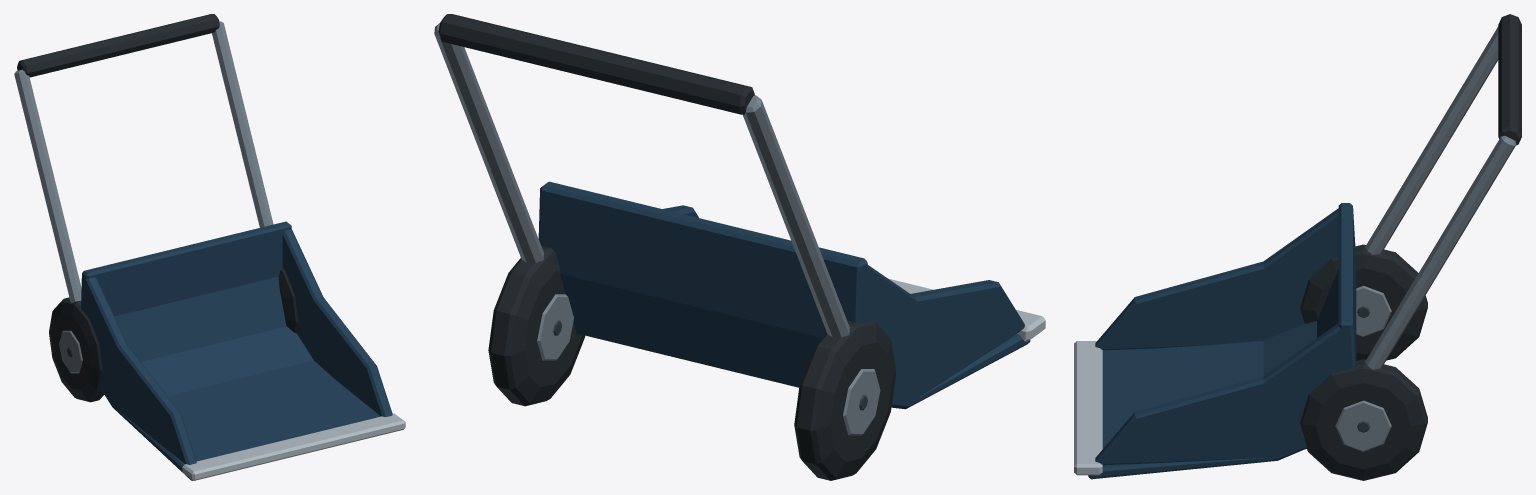
Rendered from b20_wheeled_snow_scoop.glb.
The picture shows the model from 3 angles, left to right: view 1: azimuth 30°, elevation 25°; view 2: azimuth 150°, elevation 25°; view 3: azimuth 270°, elevation 25°; orthographic projection. The views are drawn at different scales.
Parts seen in each view (by area): view 1: b20_wheeled_snow_scoop; view 2: b20_wheeled_snow_scoop; view 3: b20_wheeled_snow_scoop.
Boxes of the visible parts, left/top/right/bottom form: b20_wheeled_snow_scoop: left=14, top=14, right=405, bottom=480; b20_wheeled_snow_scoop: left=434, top=14, right=1045, bottom=480; b20_wheeled_snow_scoop: left=1074, top=14, right=1521, bottom=480.
Bounding box in the file's own units: 0.856 × 1.08 × 1.25.
